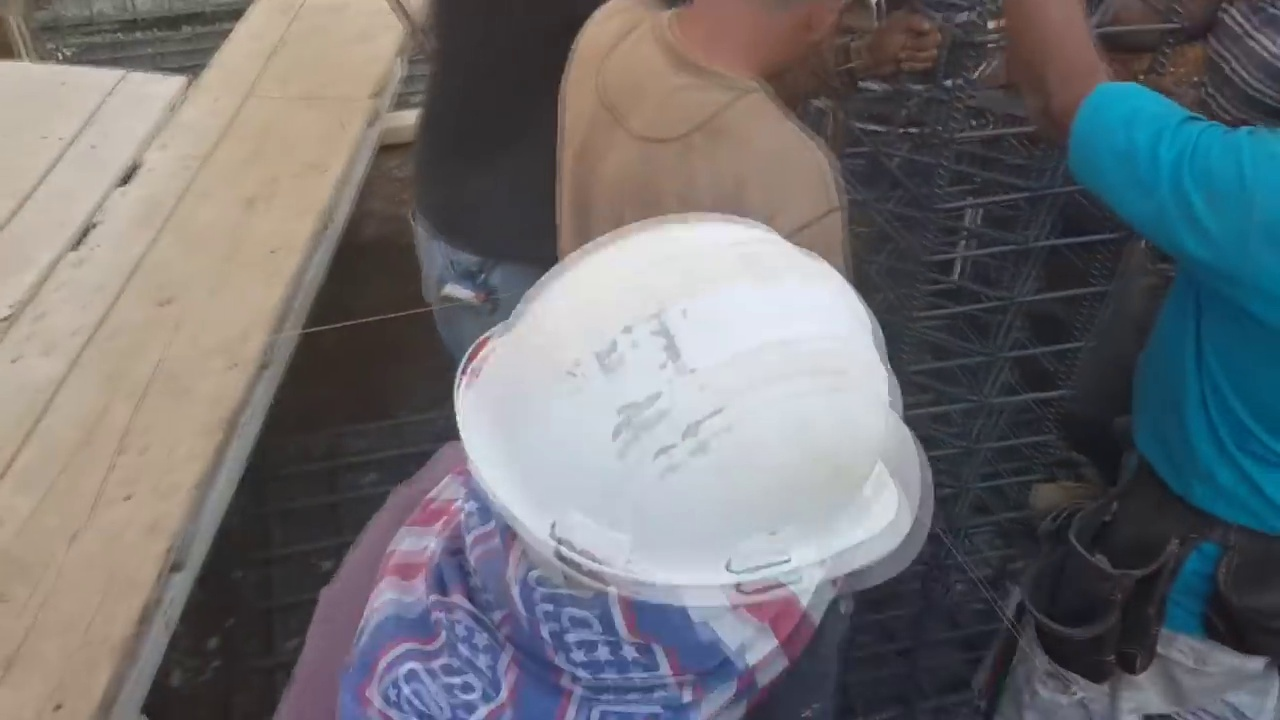person: (319, 209, 938, 720), (995, 0, 1279, 720), (551, 2, 944, 286), (407, 6, 603, 368)
